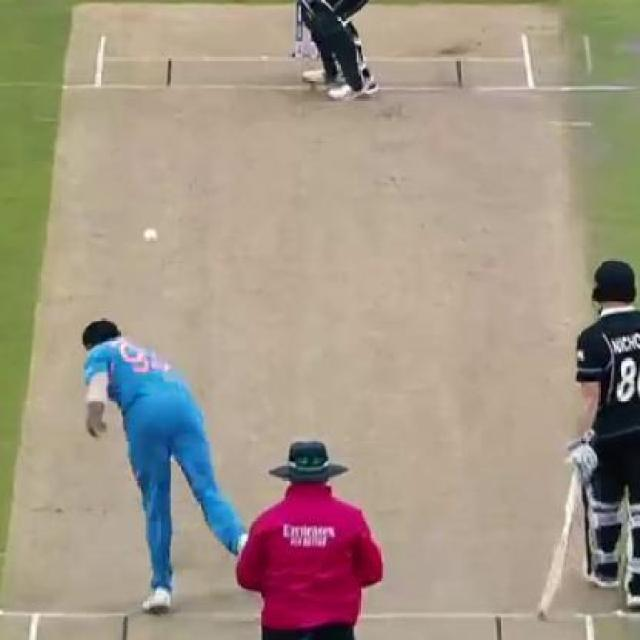Cricket ball: (143, 226, 159, 246)
